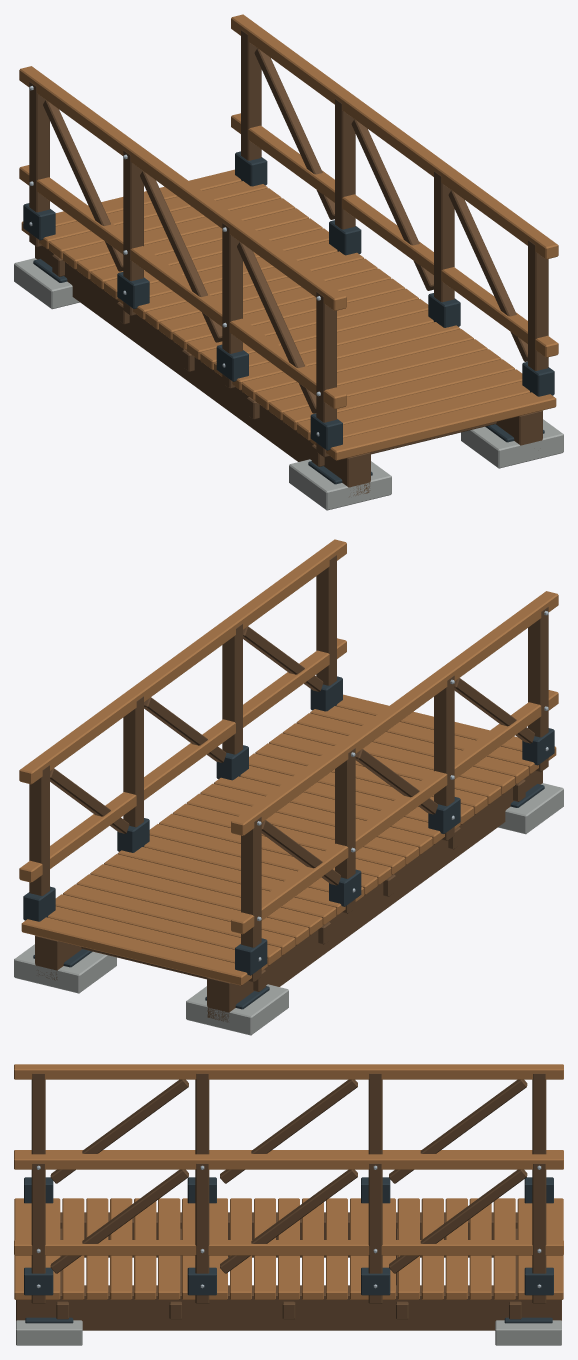
Rendered from b13_timber_creek_pedestrian_bridge.glb.
The picture shows the model from 3 angles, top to bottom: view 1: azimuth 30°, elevation 25°; view 2: azimuth 150°, elevation 25°; view 3: azimuth 270°, elevation 25°; orthographic projection. The views are drawn at different scales.
Visible parts, largest first — view 1: b13_timber_creek_pedestrian_bridge; view 2: b13_timber_creek_pedestrian_bridge; view 3: b13_timber_creek_pedestrian_bridge.
Boxes of the visible parts, x1,y1,x2,y2 form: b13_timber_creek_pedestrian_bridge: (14, 14, 563, 510); b13_timber_creek_pedestrian_bridge: (14, 539, 563, 1035); b13_timber_creek_pedestrian_bridge: (14, 1064, 563, 1345).
Size of the model in its own units: 1.8 by 1.52 by 4.13.
